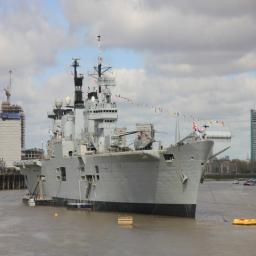Portanaves: (13, 29, 216, 221)
